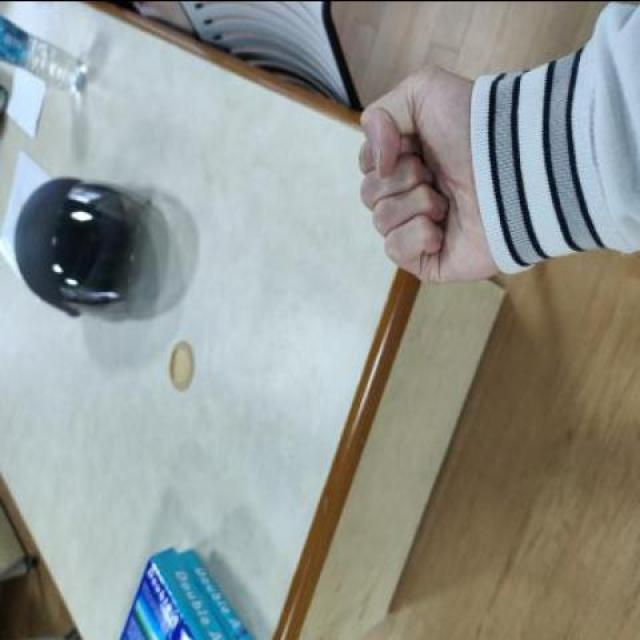Closed Hand: (353, 51, 508, 313)
